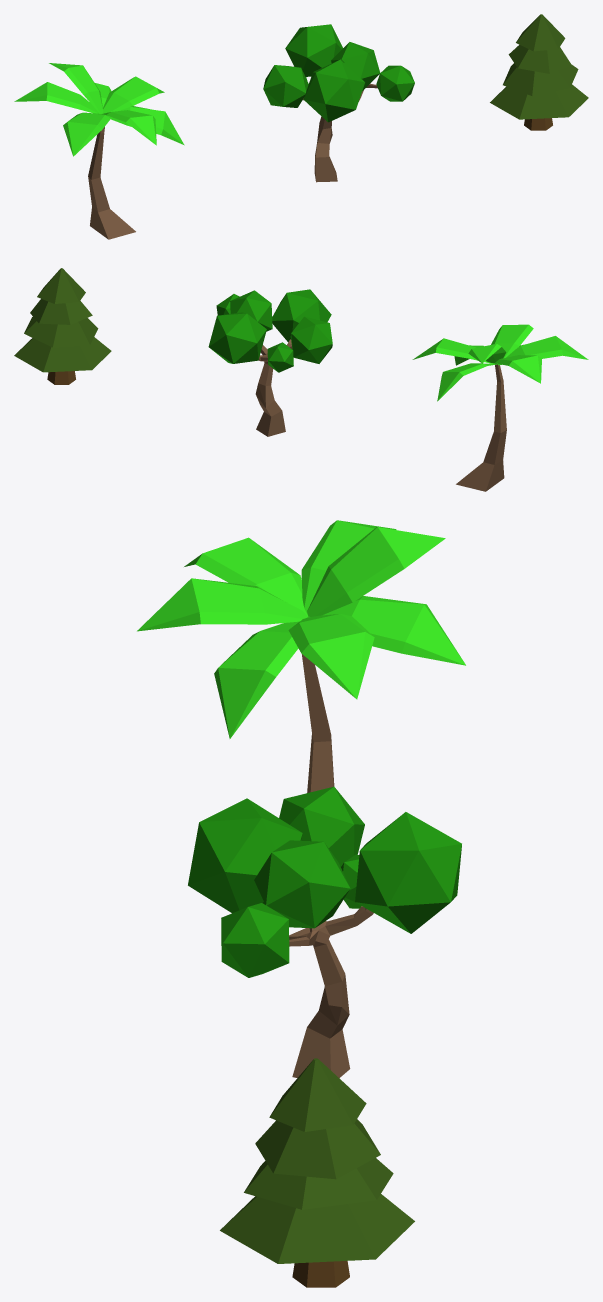
The model's file is tree.glb.
3 views of the same model, one above another, from view 1: azimuth 30°, elevation 25°; view 2: azimuth 150°, elevation 25°; view 3: azimuth 270°, elevation 25° (orthographic). The views are drawn at different scales.
Parts seen in each view (by area): view 1: tree_1, tree_3, tree_2; view 2: tree_1, tree_3, tree_2; view 3: tree_1, tree_3, tree_2.
Part boxes in pixels (x1=…): tree_1: x1=263, y1=24, x2=414, y2=182; tree_3: x1=14, y1=63, x2=184, y2=239; tree_2: x1=490, y1=14, x2=588, y2=130; tree_1: x1=208, y1=289, x2=332, y2=436; tree_3: x1=412, y1=324, x2=588, y2=491; tree_2: x1=14, y1=268, x2=111, y2=384; tree_1: x1=188, y1=786, x2=461, y2=1077; tree_3: x1=137, y1=520, x2=465, y2=792; tree_2: x1=220, y1=1058, x2=414, y2=1287.
Size of the model in its own units: 12.83 by 3.56 by 3.42.
1 material, 1 textured.
